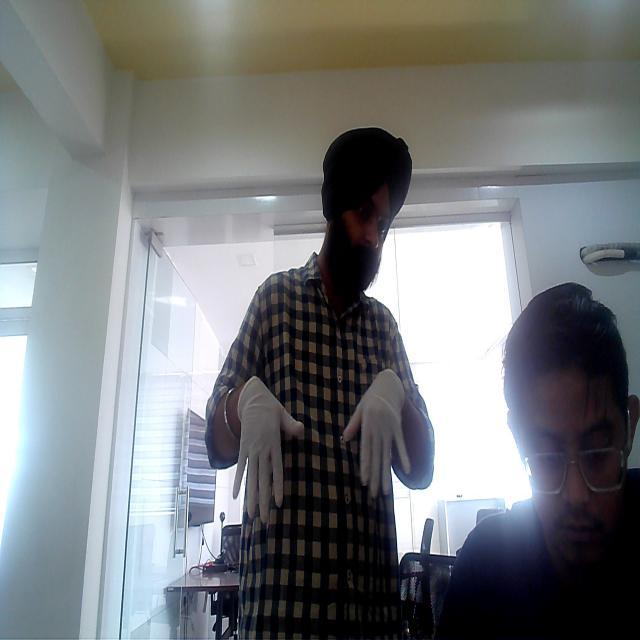with_gloves: (329, 357, 439, 509), (225, 370, 312, 527)
